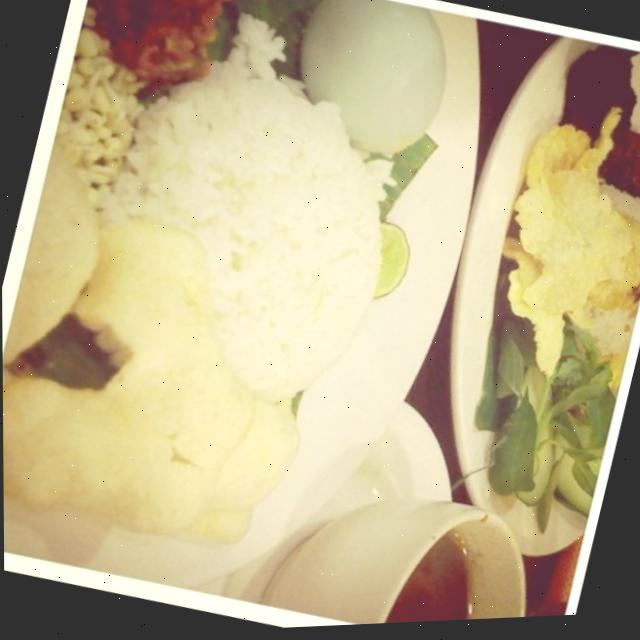米饭主食: (57, 19, 482, 495)
